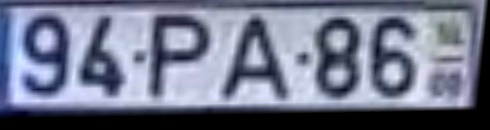4: (76, 13, 133, 104)
6: (369, 14, 421, 103)
8: (310, 13, 367, 103)
9: (18, 12, 75, 103)
A: (214, 13, 296, 104)
P: (141, 12, 219, 104)
